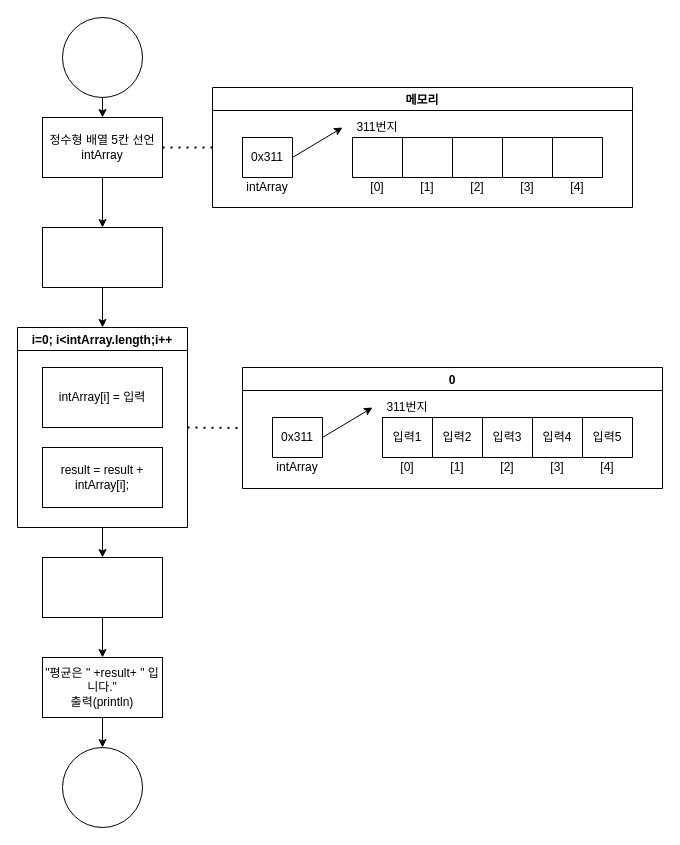
This 680x845 diagram has some shape labels left out. The centre of each missing label's shape, as x and y in pixels:
End: the point at 102,787
result = result / intArray.length;: the point at 102,587
Start: the point at 102,57
평균값 result 실수형 선언: the point at 102,257
